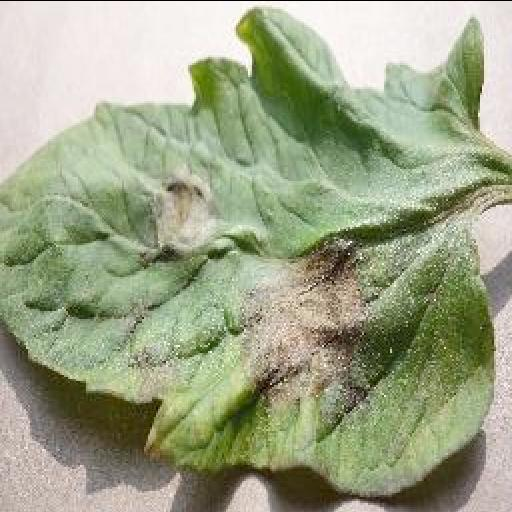disease_tomato: (0, 6, 492, 496)
